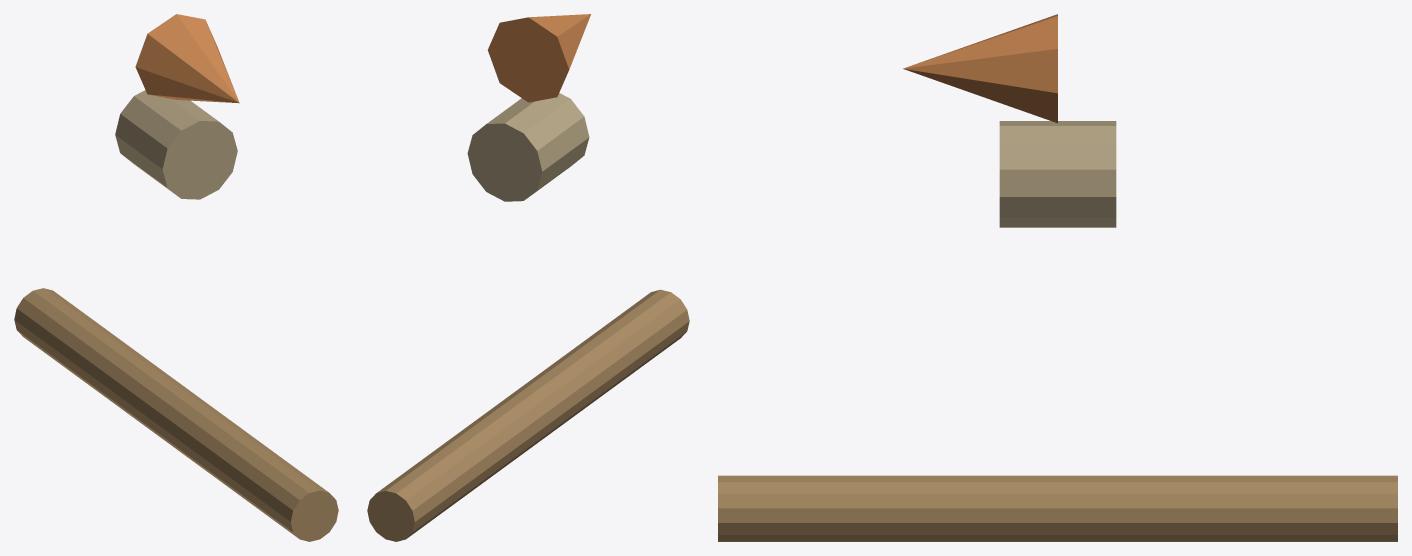
The model's file is torch.glb.
The picture shows the model from 3 angles, left to right: view 1: azimuth 30°, elevation 25°; view 2: azimuth 150°, elevation 25°; view 3: azimuth 270°, elevation 25°; orthographic projection. The views are drawn at different scales.
Parts seen in each view (by area): view 1: geometry_0; view 2: geometry_0; view 3: geometry_0.
Boxes of the visible parts, left/top/right/bottom form: geometry_0: left=14, top=14, right=338, bottom=541; geometry_0: left=367, top=14, right=689, bottom=541; geometry_0: left=718, top=14, right=1397, bottom=541.
Size of the model in its own units: 0.12 by 0.5941 by 0.7.
